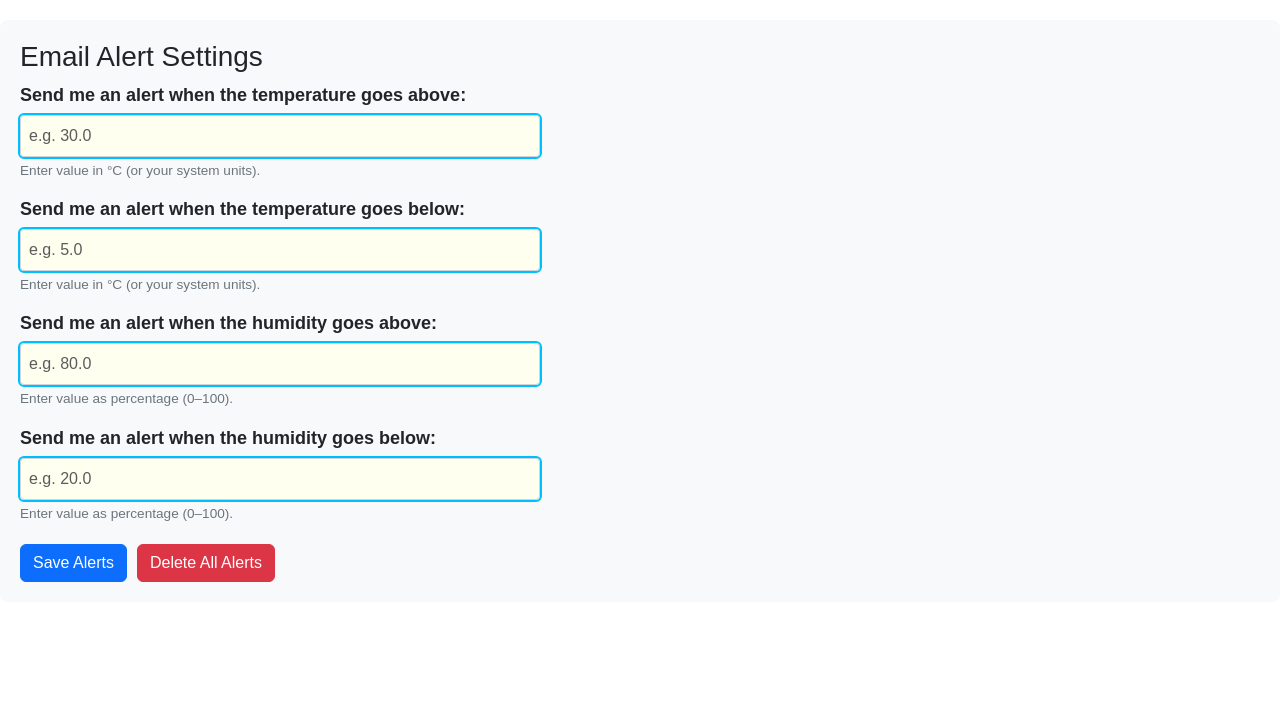
Test case: EmailAlerts › submits thresholds successfully
Type "42" into the number field named "Maximum temperature" at (280, 136), box [20,115,540,157]
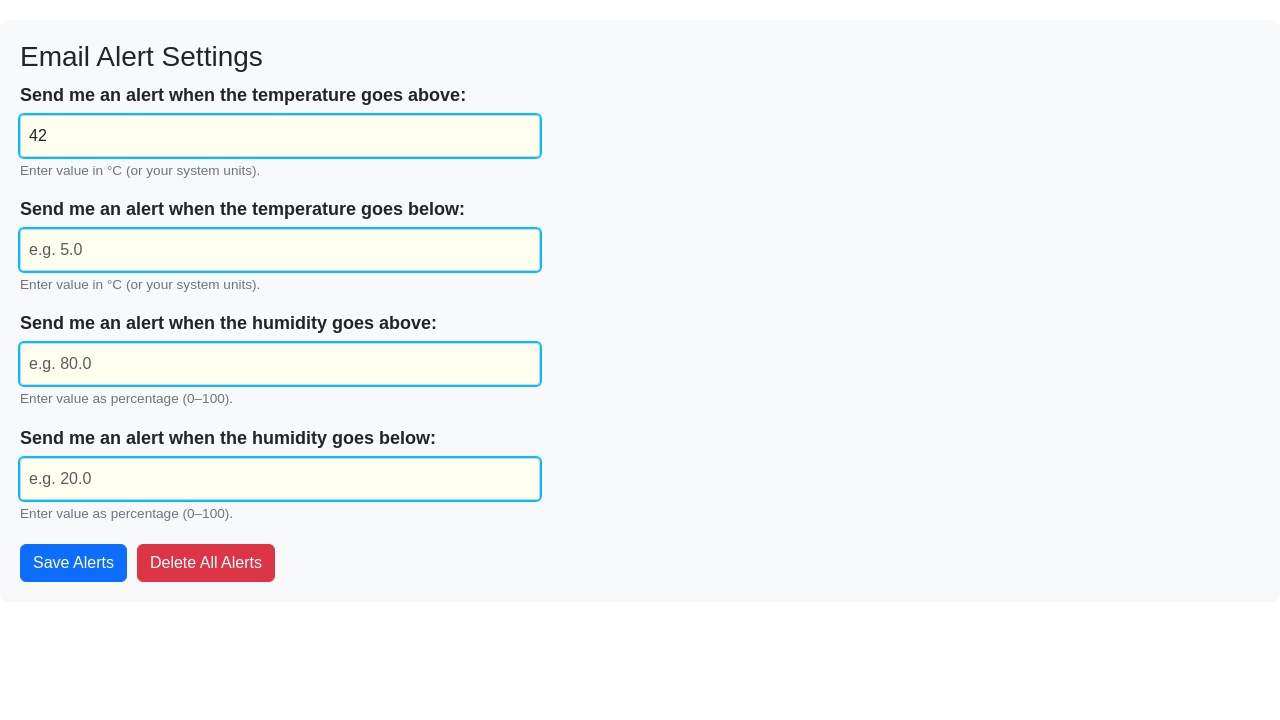
Click the button "Save Alerts" at (73, 563), box [20,544,127,582]
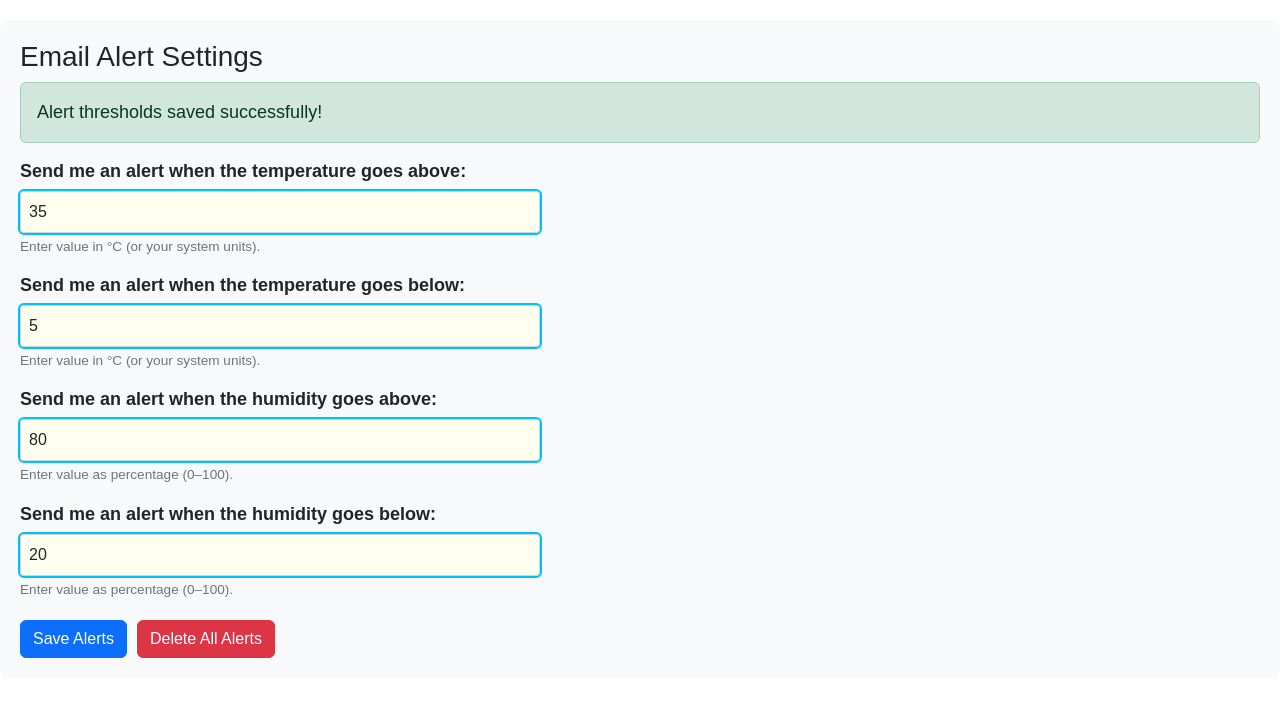
Check: the text "Alert thresholds saved successfully!" is shown, box [20,82,1260,143]
